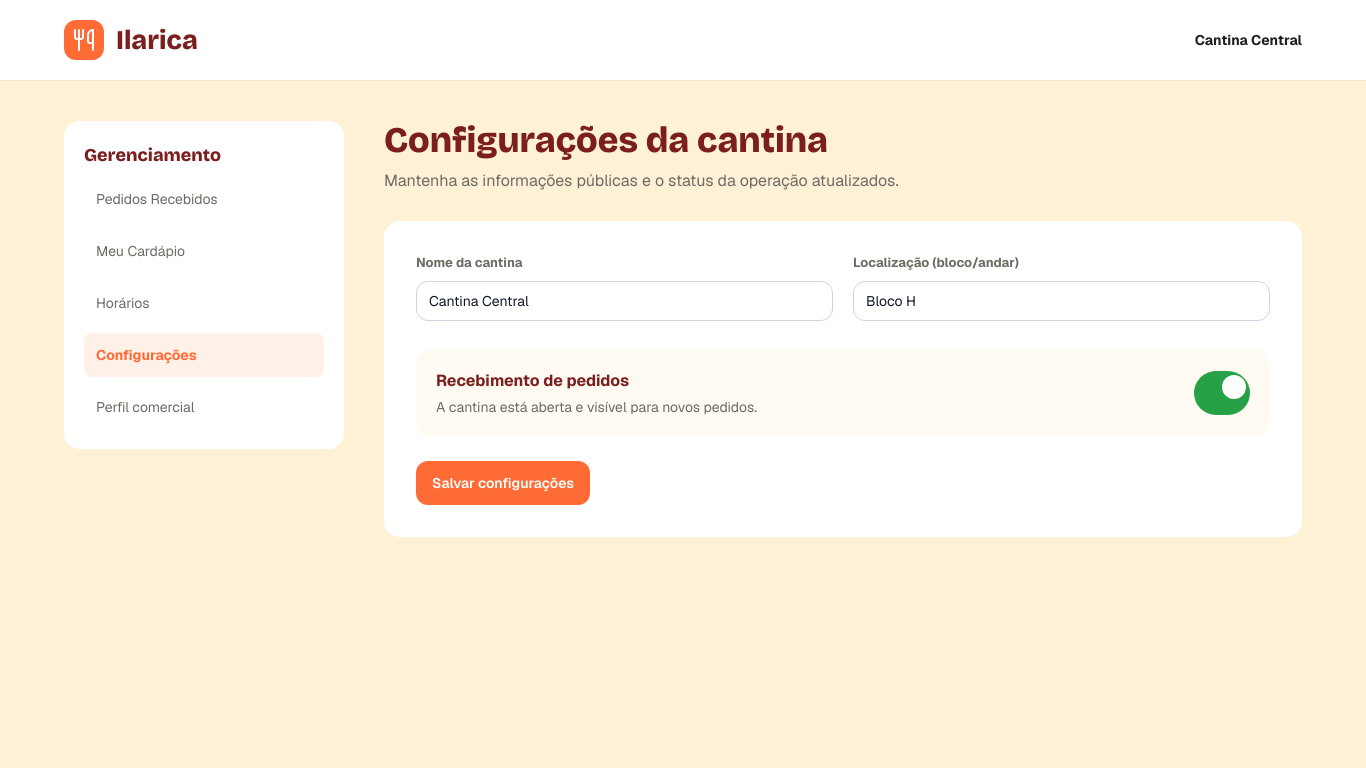
Scenario: SellerSettingsPage › persists real canteen settings through the owned endpoint
Replace the text in the field showing "Cantina Central" with "Cantina Acadêmica" at coordinates (624, 300), box [416, 280, 833, 320]
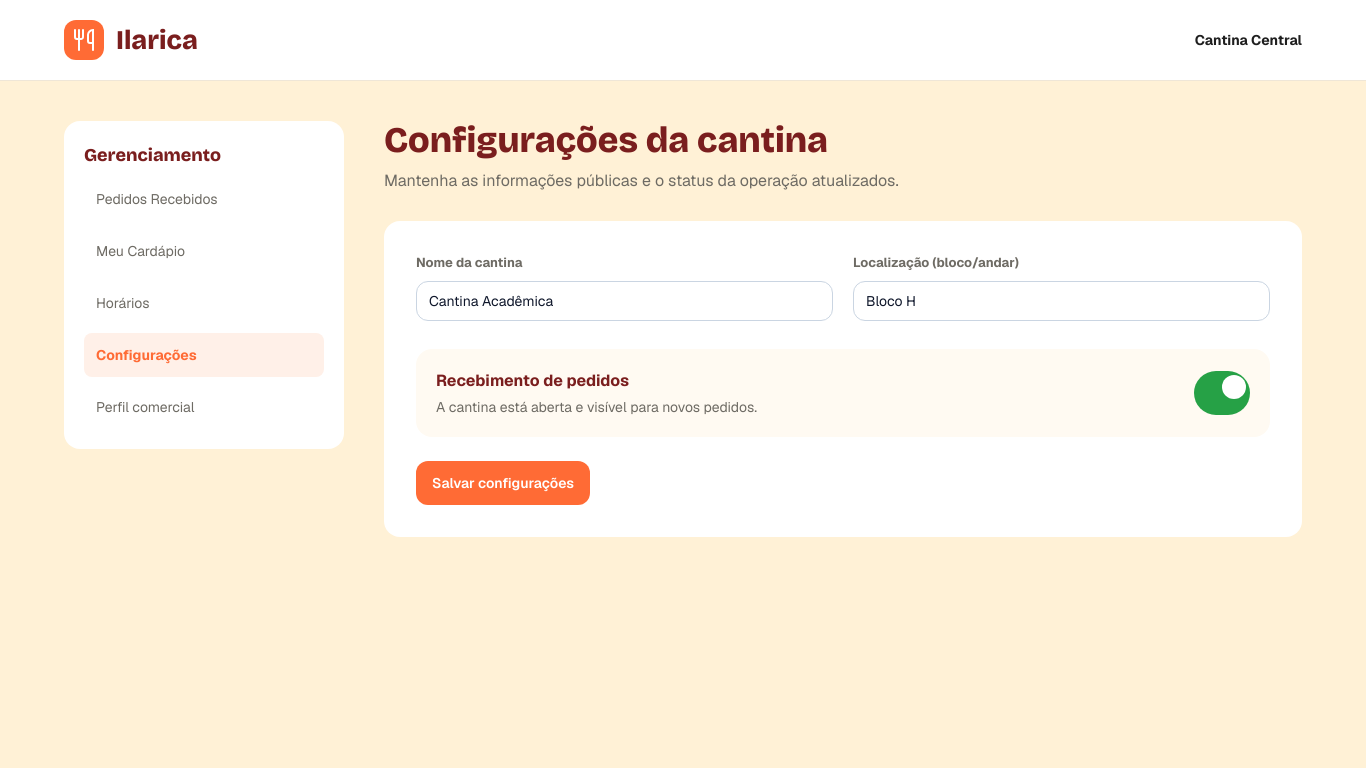
Click the button "Salvar configurações" at coordinates (503, 482), box [416, 460, 590, 504]
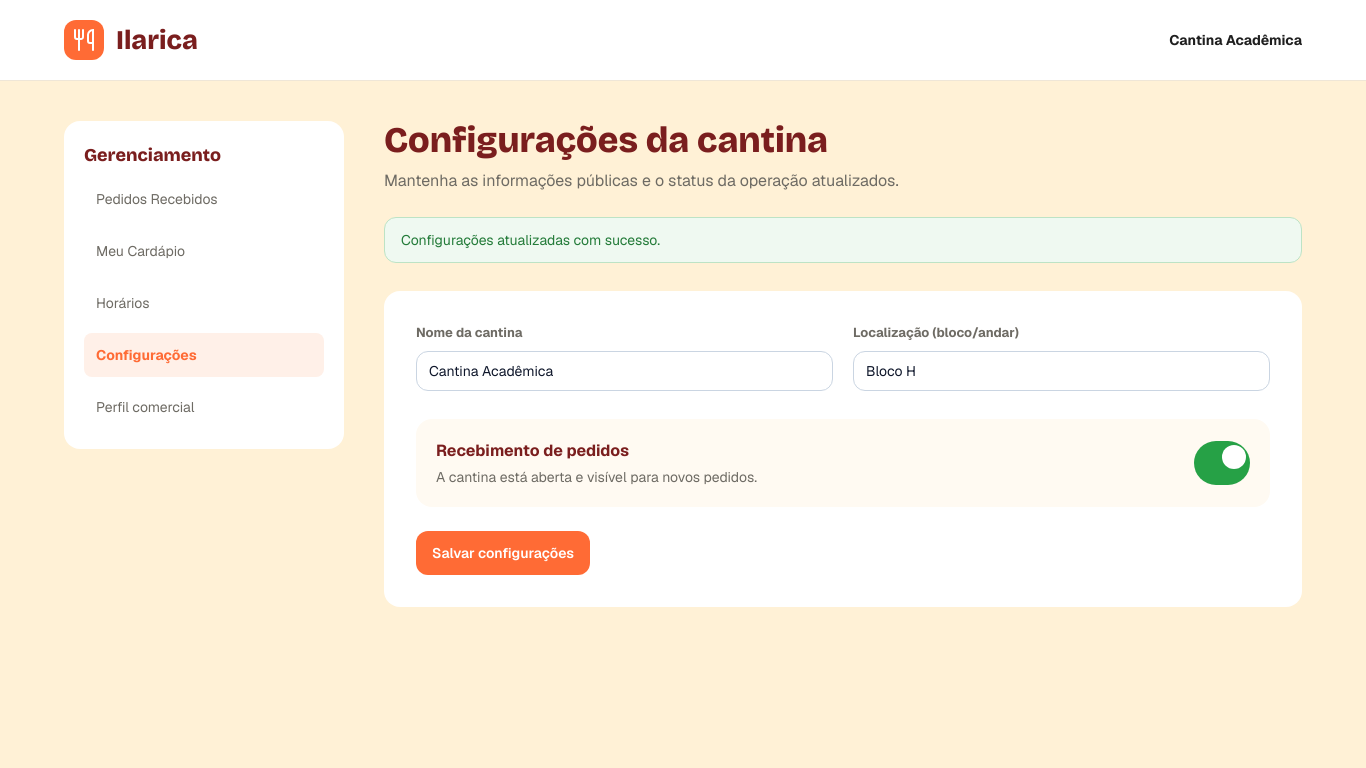
Check: the message shows "sucesso", box [401, 231, 660, 249]
